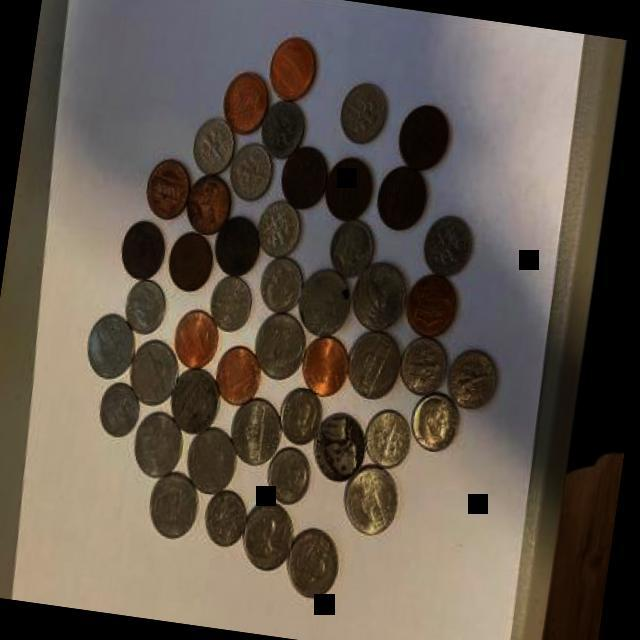Dime: (442, 341, 502, 412), (333, 76, 391, 146), (420, 210, 476, 281), (397, 331, 452, 398), (359, 406, 414, 471), (252, 252, 306, 317), (408, 390, 462, 455), (222, 138, 276, 202), (204, 272, 258, 336), (262, 442, 316, 506), (118, 274, 170, 339), (258, 96, 308, 163), (324, 216, 377, 278), (201, 488, 252, 550), (275, 384, 326, 446), (254, 199, 304, 262), (190, 114, 236, 176)
Nickel: (341, 323, 408, 404), (281, 522, 347, 603), (238, 496, 301, 575), (340, 460, 402, 540), (225, 392, 287, 470), (294, 262, 356, 340), (348, 256, 410, 333), (310, 409, 371, 486), (81, 306, 141, 384), (249, 307, 308, 383), (166, 366, 227, 438), (181, 424, 240, 498), (145, 471, 204, 544), (129, 408, 184, 482), (125, 336, 180, 407), (90, 377, 144, 443)
Penny: (393, 101, 455, 173), (373, 161, 432, 234), (402, 270, 461, 342), (266, 28, 320, 102), (322, 154, 378, 225), (296, 331, 354, 398), (210, 210, 264, 281), (217, 65, 270, 136), (277, 142, 330, 210), (116, 216, 170, 282), (140, 152, 192, 220), (165, 228, 218, 294), (181, 170, 235, 234), (170, 306, 222, 370), (214, 346, 264, 410)
